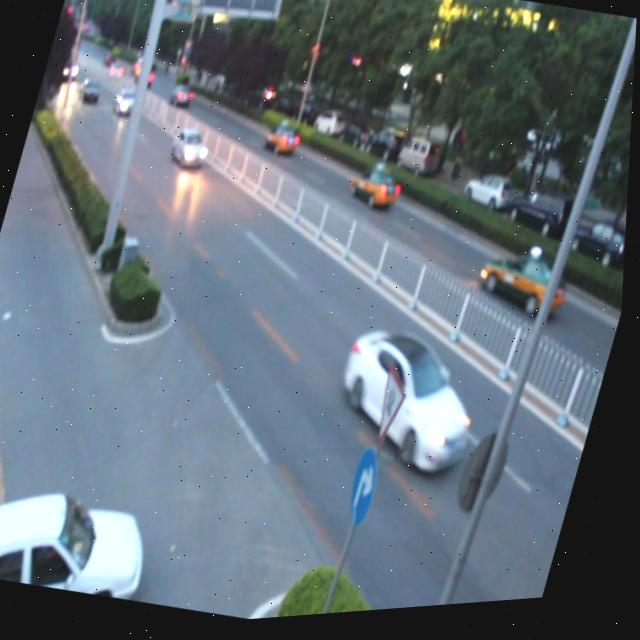car: (326, 324, 490, 492), (0, 463, 163, 611), (474, 251, 575, 331), (350, 169, 404, 218), (167, 129, 213, 175), (262, 123, 303, 163)
